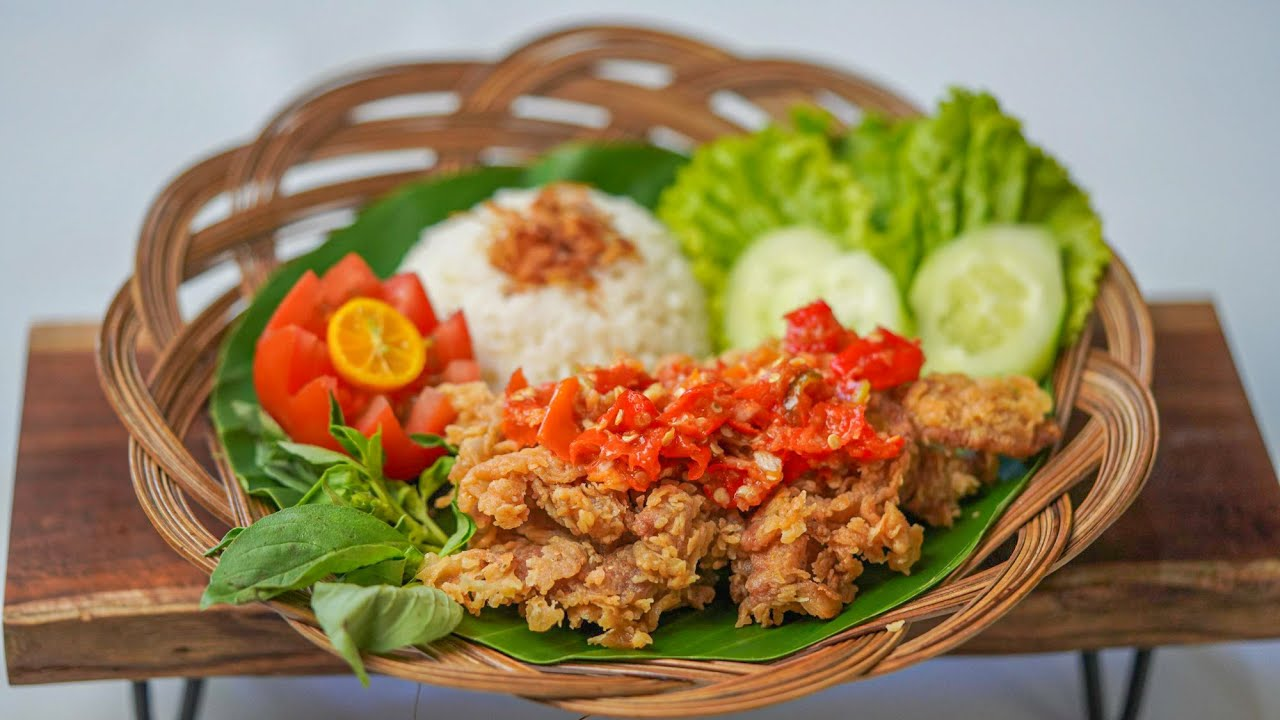ayam_geprek: (382, 344, 1074, 644)
